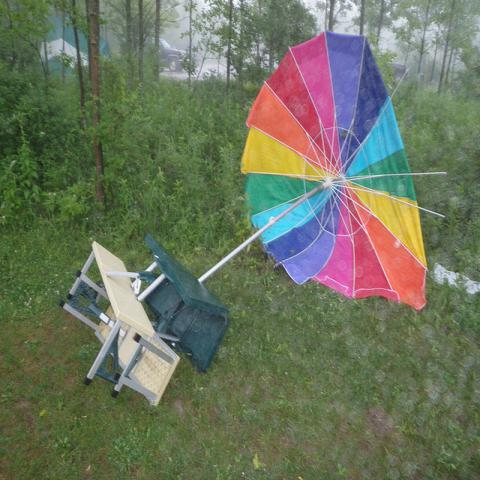car: (160, 38, 190, 72)
